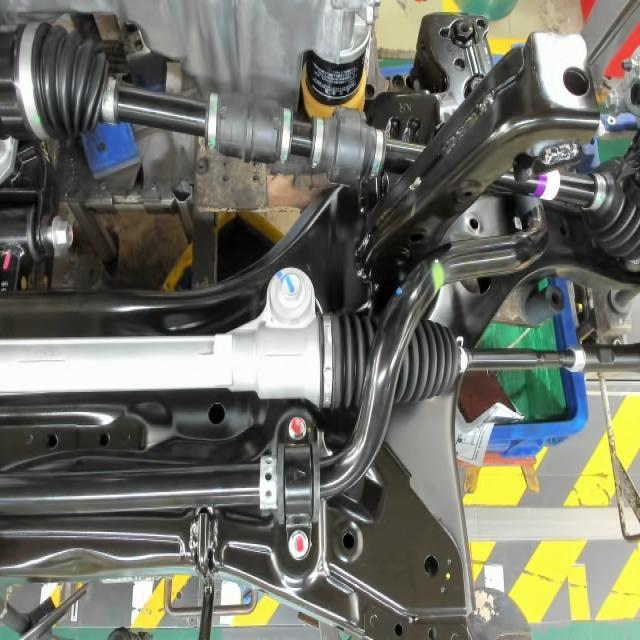Bar Stabilizer-HJ: (426, 258, 446, 299)
Drive Shaft-UG: (534, 165, 560, 205)
